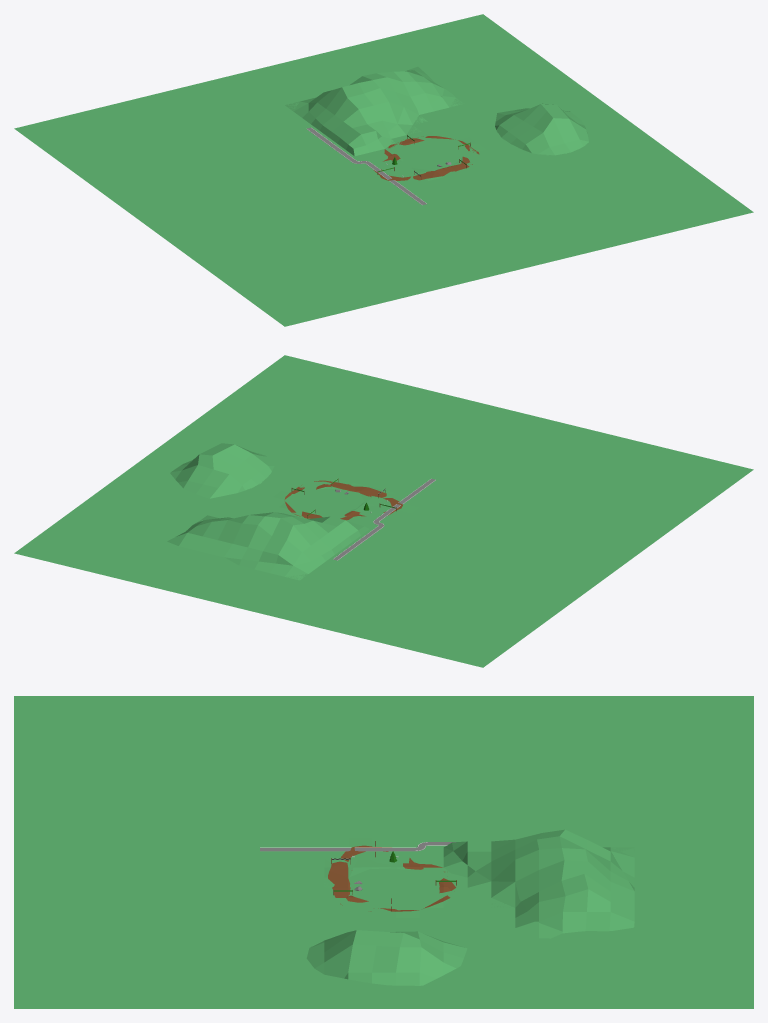
Rendered from trackRally.fbx.
The picture shows the model from 3 angles, top to bottom: view 1: azimuth 30°, elevation 25°; view 2: azimuth 150°, elevation 25°; view 3: azimuth 270°, elevation 25°; orthographic projection. The views are drawn at different scales.
Visible parts, largest first — view 1: Plane.001, road; view 2: Plane.001, road; view 3: Plane.001, road.
Boxes of the visible parts, box(x1,y1,x2,y2) form: Plane.001: box(14, 14, 753, 326); road: box(306, 127, 426, 205); Plane.001: box(14, 355, 753, 667); road: box(333, 478, 435, 560); Plane.001: box(14, 696, 753, 1008); road: box(260, 842, 455, 851).
Size of the model in its own units: 42172 by 2800 by 42172.
